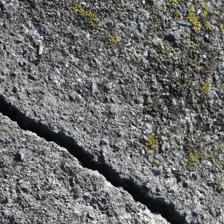Crack: (2, 50, 185, 171)
